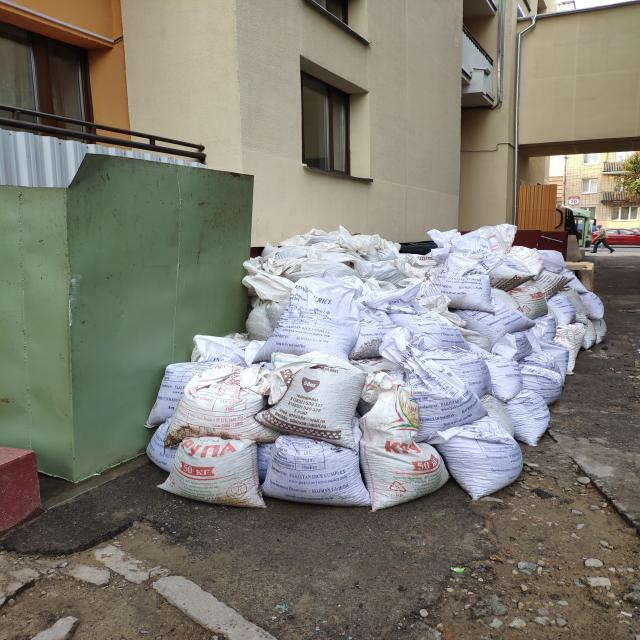lixo domiciliar: (140, 226, 618, 524)
